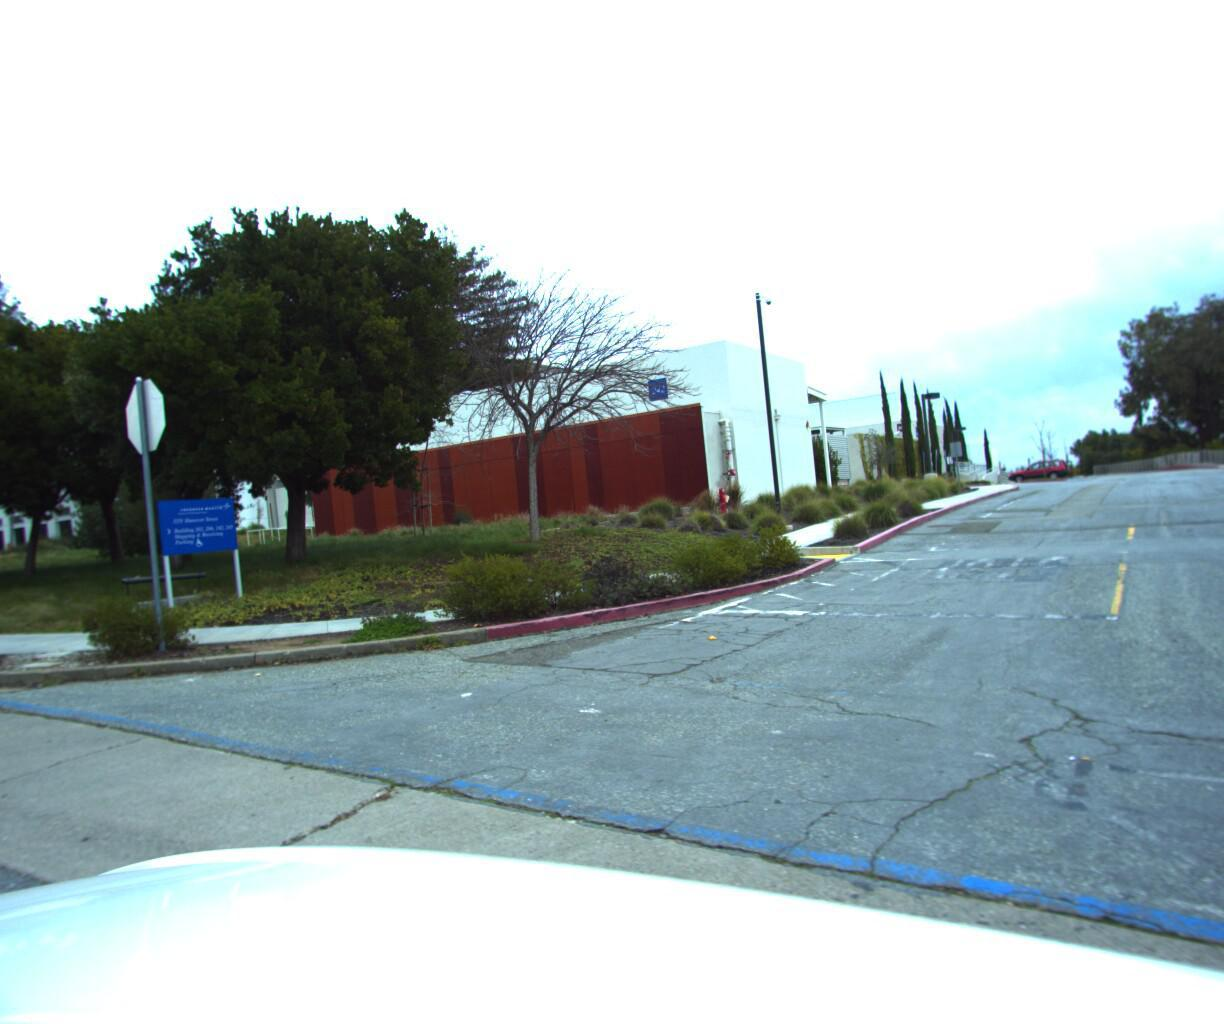car: (1001, 453, 1072, 477)
